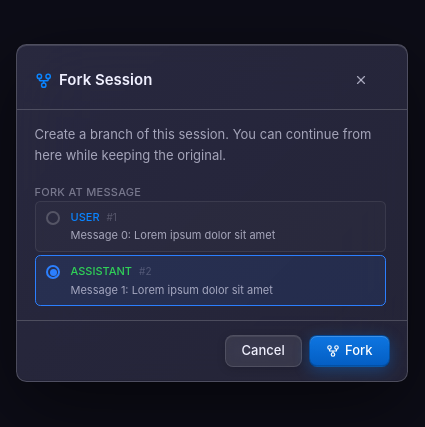
Scenario: ForkDialog › shows error message on fork failure
Click the button "Fork": {"x": 349, "y": 351} x1=309 y1=335 x2=390 y2=367
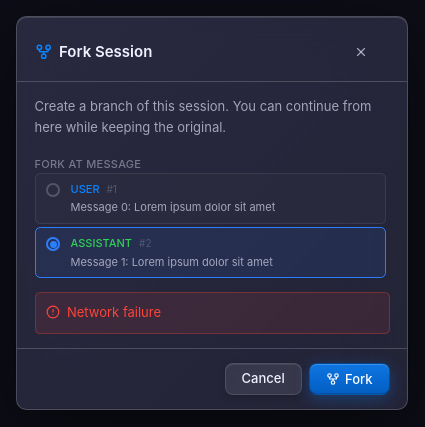
Check: the text "Network failure" is shown, box x1=67 y1=303 x2=161 y2=323
